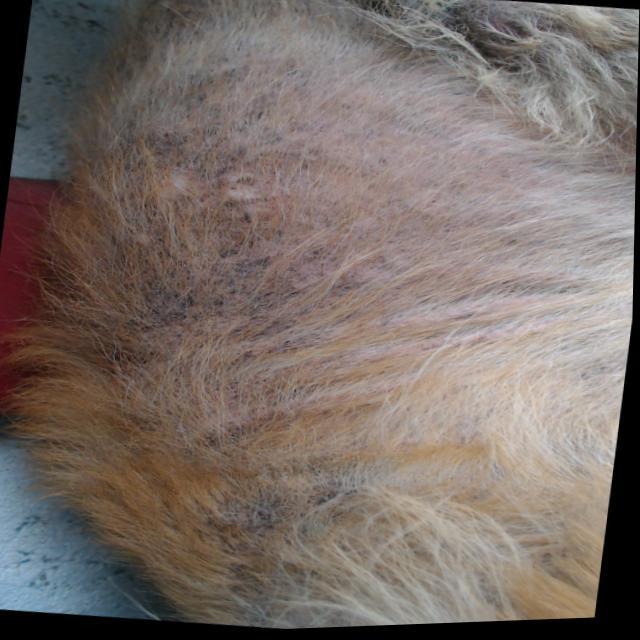demodicosis: (73, 100, 389, 418)
